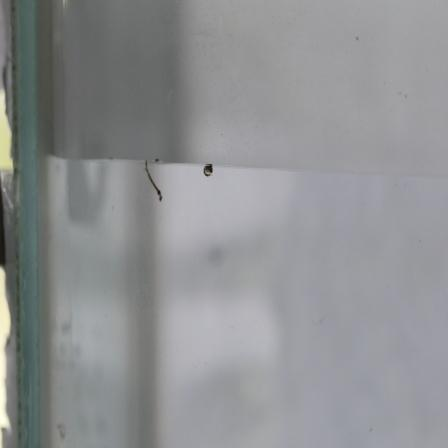Jentik-Nyamuk: (140, 158, 167, 206), (199, 157, 216, 181)
